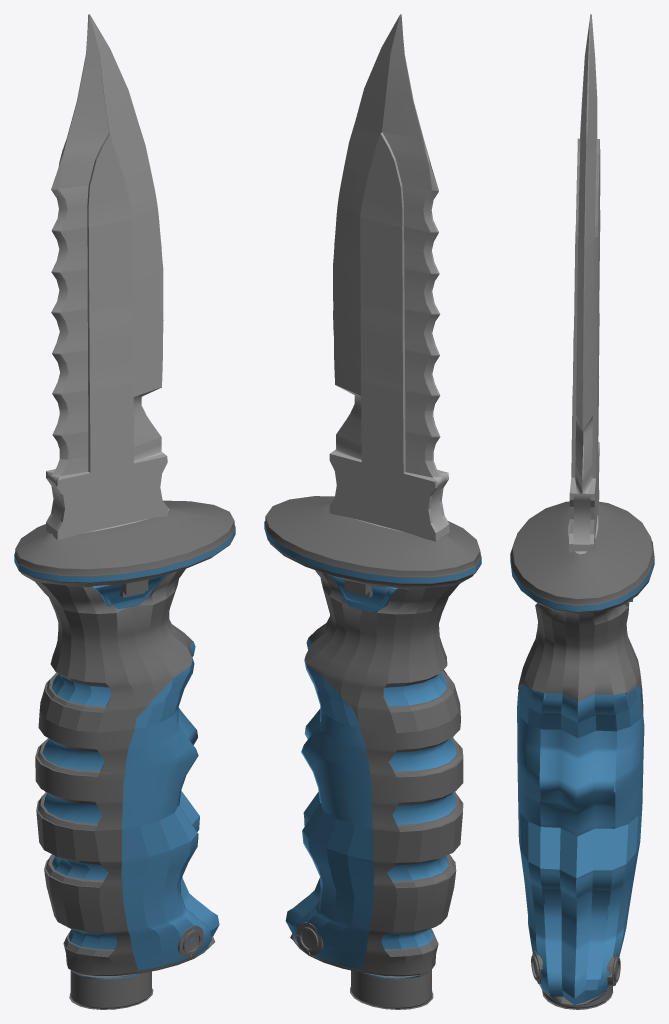
The model's file is Knife.fbx.
The picture shows the model from 3 angles, left to right: view 1: azimuth 30°, elevation 25°; view 2: azimuth 150°, elevation 25°; view 3: azimuth 270°, elevation 25°; orthographic projection.
Visible parts, largest first — view 1: pasted__side3; view 2: pasted__side3; view 3: pasted__side3.
Boxes of the visible parts, <box> form: pasted__side3: <box>14,14,235,1009</box>; pasted__side3: <box>264,14,481,1009</box>; pasted__side3: <box>510,14,654,1009</box>.
Bounding box in the file's own units: 3 × 13.72 × 1.83.
